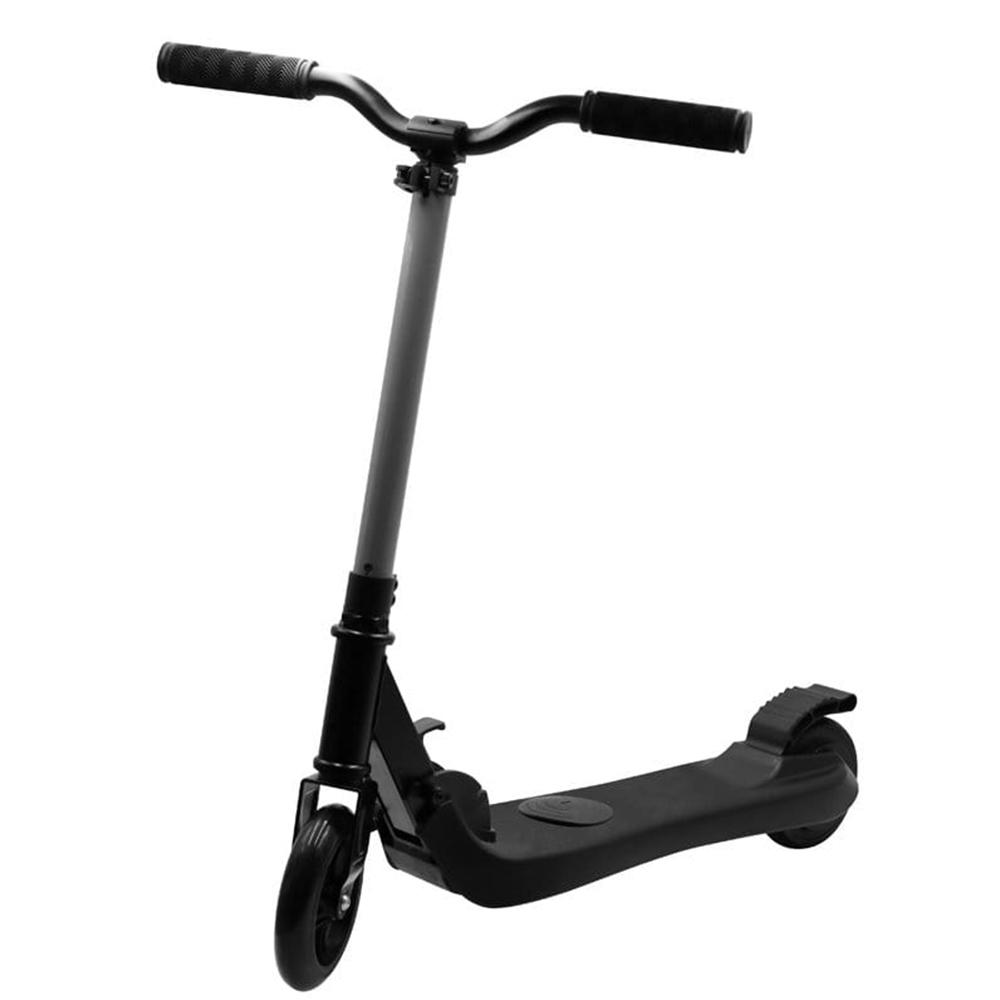scooter: (139, 26, 882, 994)
